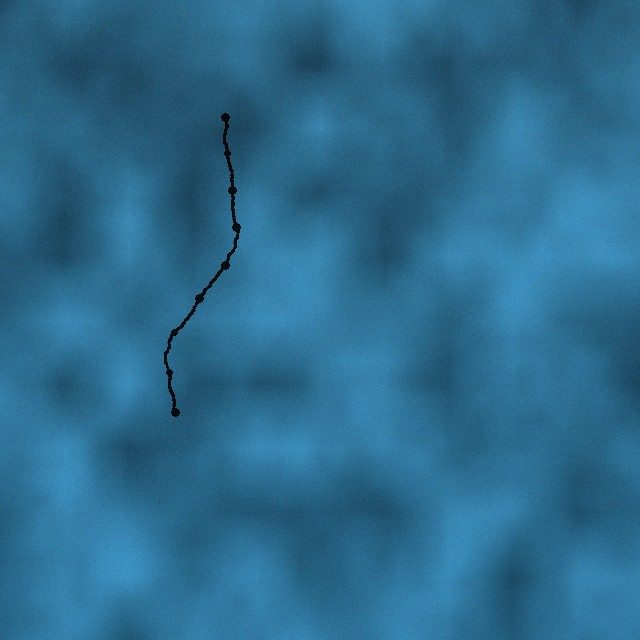crack: (160, 112, 243, 417)
